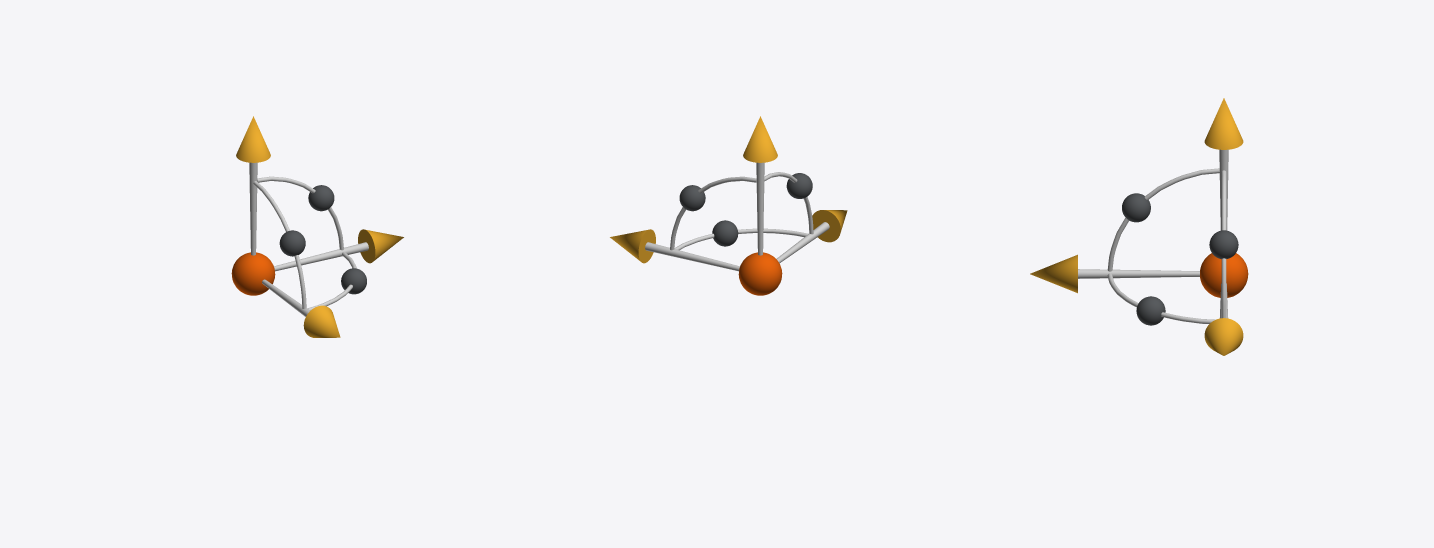
Rendered from uklad_wspolrzednych.glb.
3 views of the same model, side by side, from view 1: azimuth 30°, elevation 25°; view 2: azimuth 150°, elevation 25°; view 3: azimuth 270°, elevation 25° (orthographic). The views are drawn at different scales.
Parts seen in each view (by area): view 1: kulastart, Cone.003, Cone.005, Cone.004, cylinderx, cylinderz, Cylinder.006, kulastart.002; view 2: kulastart, Cone.003, Cone.004, Cone.005, cylinderx, cylinderz; view 3: kulastart, Cone.003, Cone.004, cylinder y, Cone.005, Cylinder.006, Cylinder.002, kulastart.001, kulastart.002, kulastart.003, Cylinder.001, cylinderz.
Part boxes in pixels (box(x1,y1,x2,y2)): kulastart: box(231, 252, 275, 295); Cone.003: box(236, 116, 270, 162); Cone.005: box(303, 305, 340, 337); Cone.004: box(358, 229, 403, 263); cylinderx: box(274, 242, 368, 271); cylinderz: box(249, 162, 257, 255); Cylinder.006: box(253, 181, 306, 308); kulastart.002: box(279, 230, 305, 256); kulastart: box(738, 252, 782, 295); Cone.003: box(743, 116, 777, 162); Cone.004: box(610, 229, 655, 263); Cone.005: box(812, 210, 847, 242); cylinderx: box(645, 242, 739, 271); cylinderz: box(756, 162, 764, 255); kulastart: box(1200, 253, 1248, 297); Cone.003: box(1204, 98, 1243, 149); Cone.004: box(1204, 318, 1243, 355); cylinder y: box(1078, 269, 1199, 278); Cone.005: box(1030, 254, 1077, 293); Cylinder.006: box(1107, 168, 1219, 271); Cylinder.002: box(1221, 170, 1226, 318); kulastart.001: box(1209, 230, 1238, 258); kulastart.002: box(1122, 193, 1150, 222); kulastart.003: box(1136, 296, 1165, 325); Cylinder.001: box(1107, 273, 1215, 323); cylinderz: box(1219, 149, 1228, 230).
Size of the model in its own units: 8.04 by 8.04 by 8.04.
